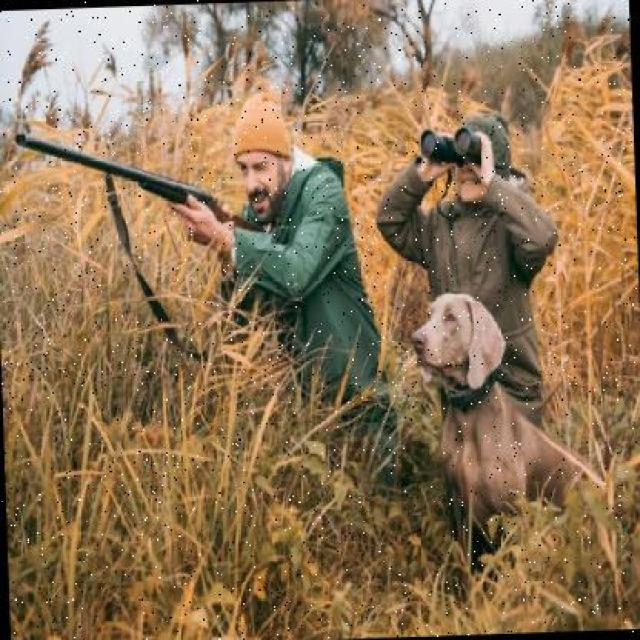p_date: (397, 290, 548, 544)
poacher: (189, 96, 374, 462), (376, 86, 584, 277)
weapon: (11, 122, 230, 255)
